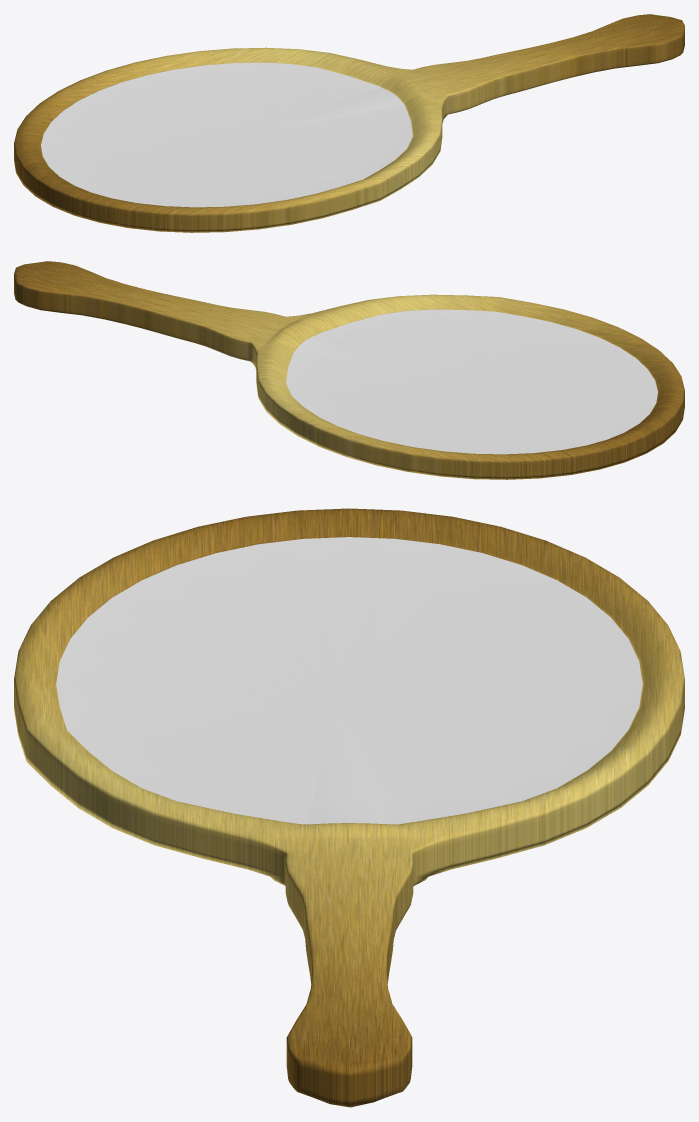
Rendered from HandMirror.fbx.
3 views of the same model, one above another, from view 1: azimuth 30°, elevation 25°; view 2: azimuth 150°, elevation 25°; view 3: azimuth 270°, elevation 25° (orthographic). The views are drawn at different scales.
Parts seen in each view (by area): view 1: pCylinder1; view 2: pCylinder1; view 3: pCylinder1.
Boxes of the visible parts, bbox=[...] form: pCylinder1: bbox=[14, 14, 684, 232]; pCylinder1: bbox=[14, 261, 684, 479]; pCylinder1: bbox=[14, 508, 684, 1107].
Bounding box in the file's own units: 19.51 × 0.8213 × 9.83.
Materials: 2 (1 with a texture image).
